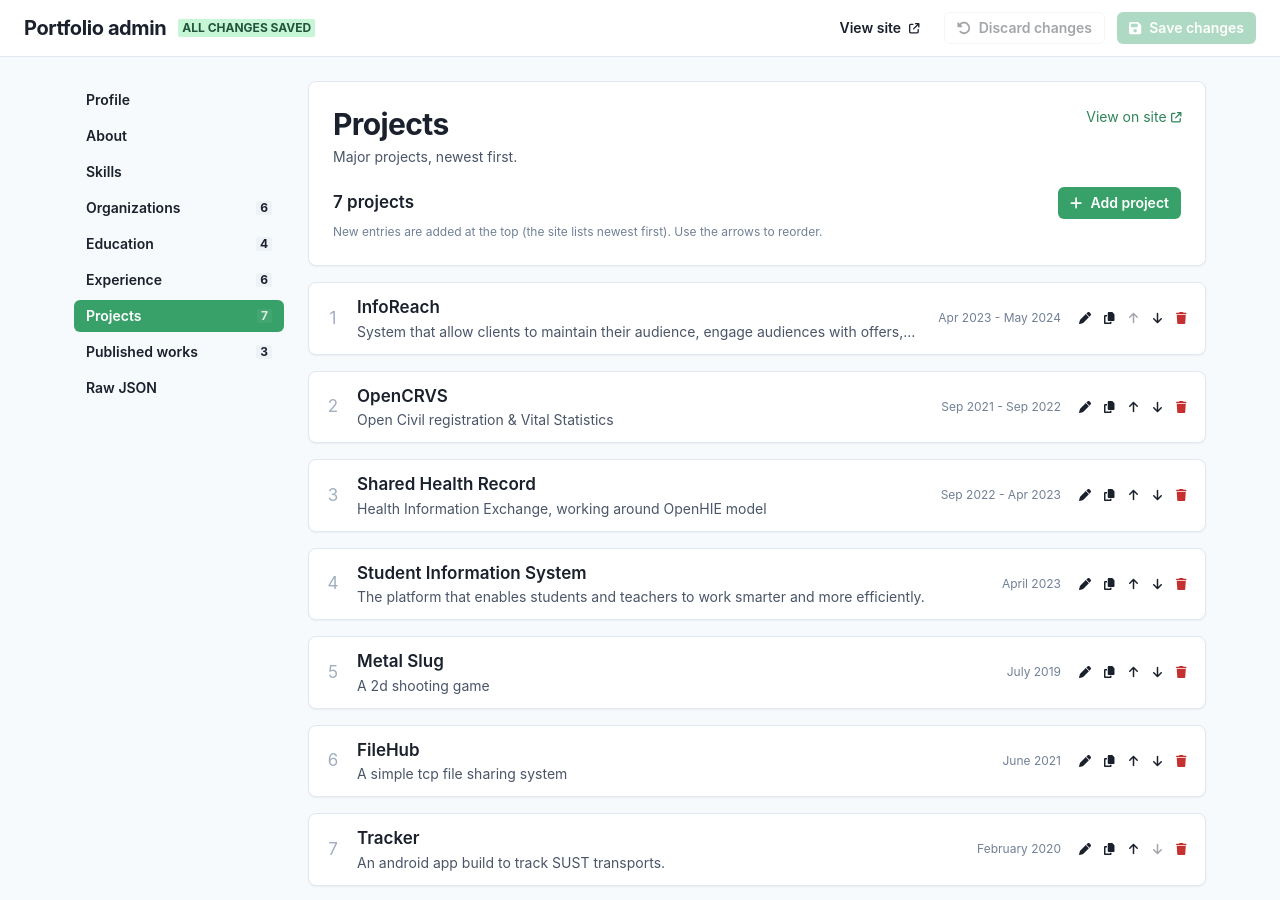
Test case: cancelling the delete dialog keeps the item
Click the button named "Delete InfoReach" at (1181, 318), box [1169,306,1193,330]
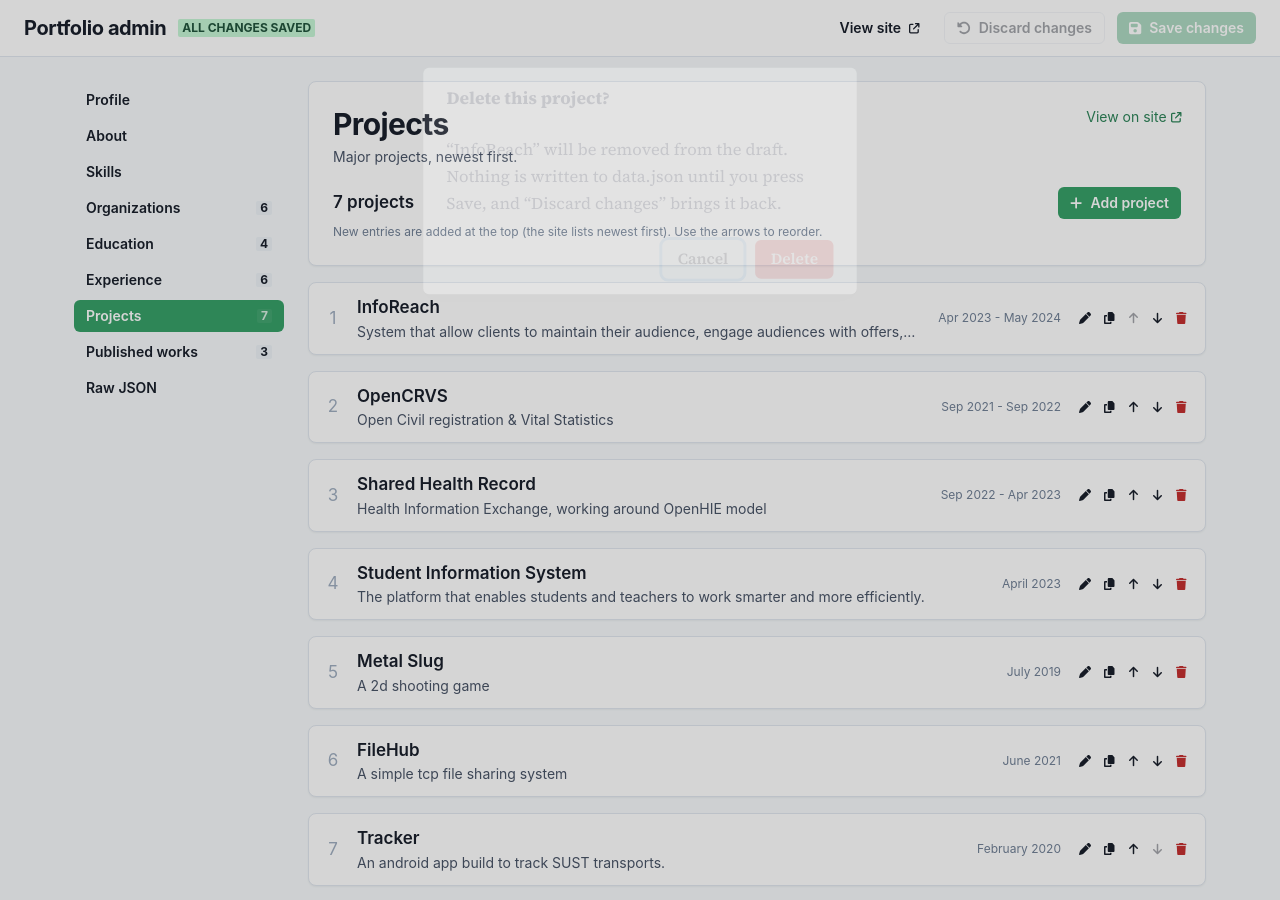
Click the button "Cancel" at (703, 259), box [662,240,744,278]
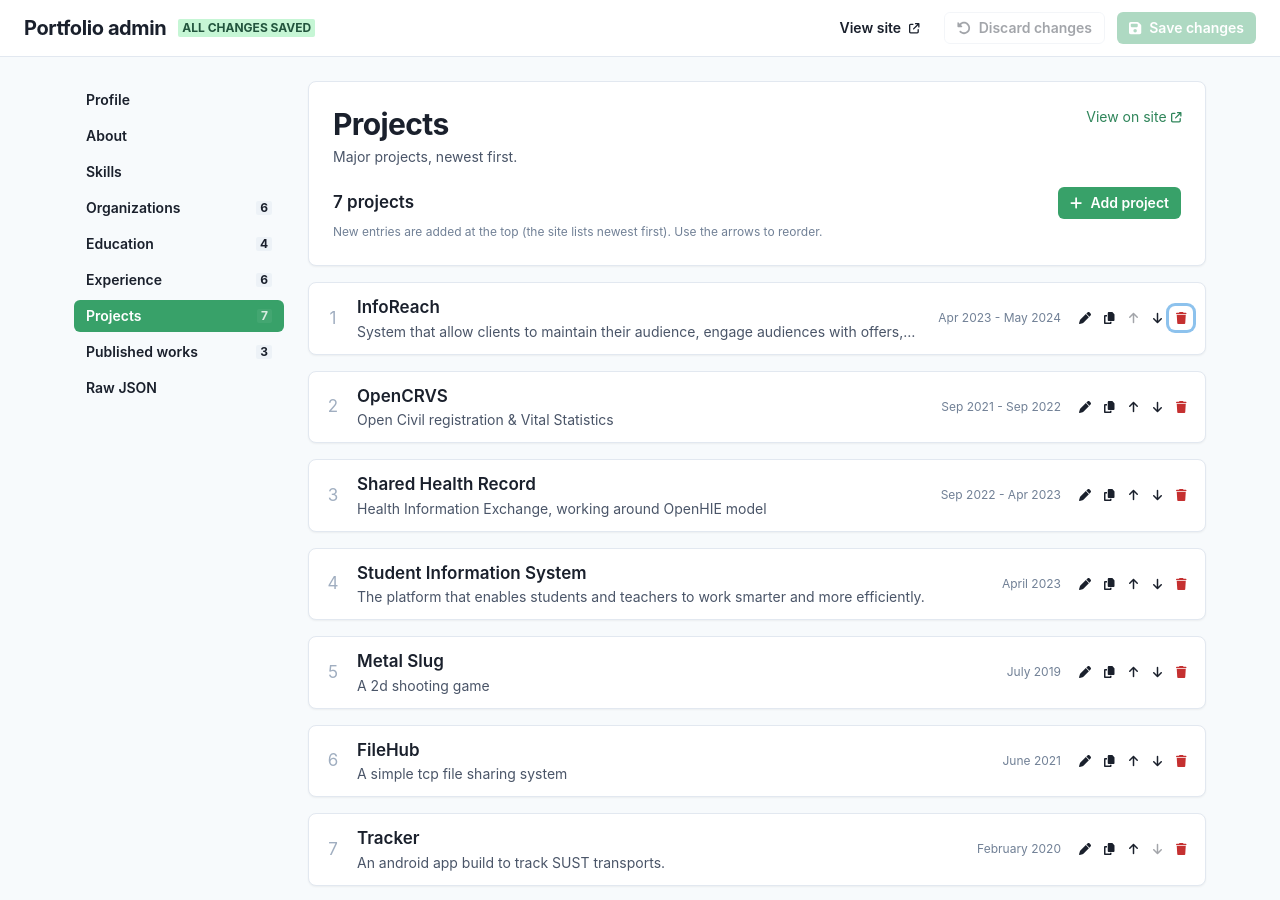
Expected: the text with test id "save-state" reads "All changes saved", [182,20,311,35]
Expected: the dialog is gone
